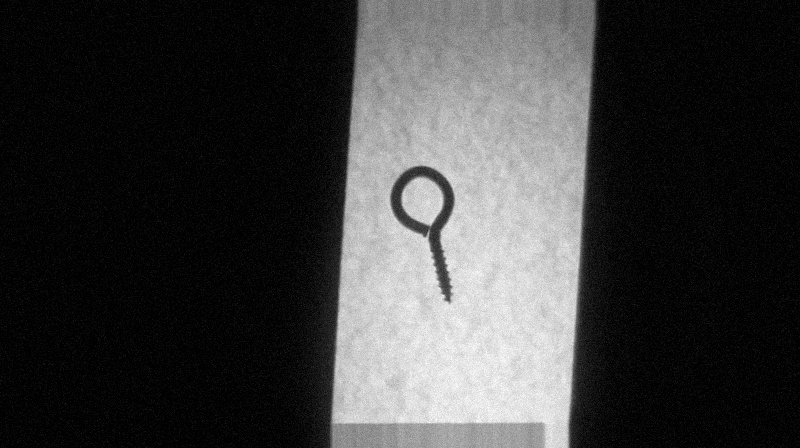O001: (386, 164, 458, 306)
